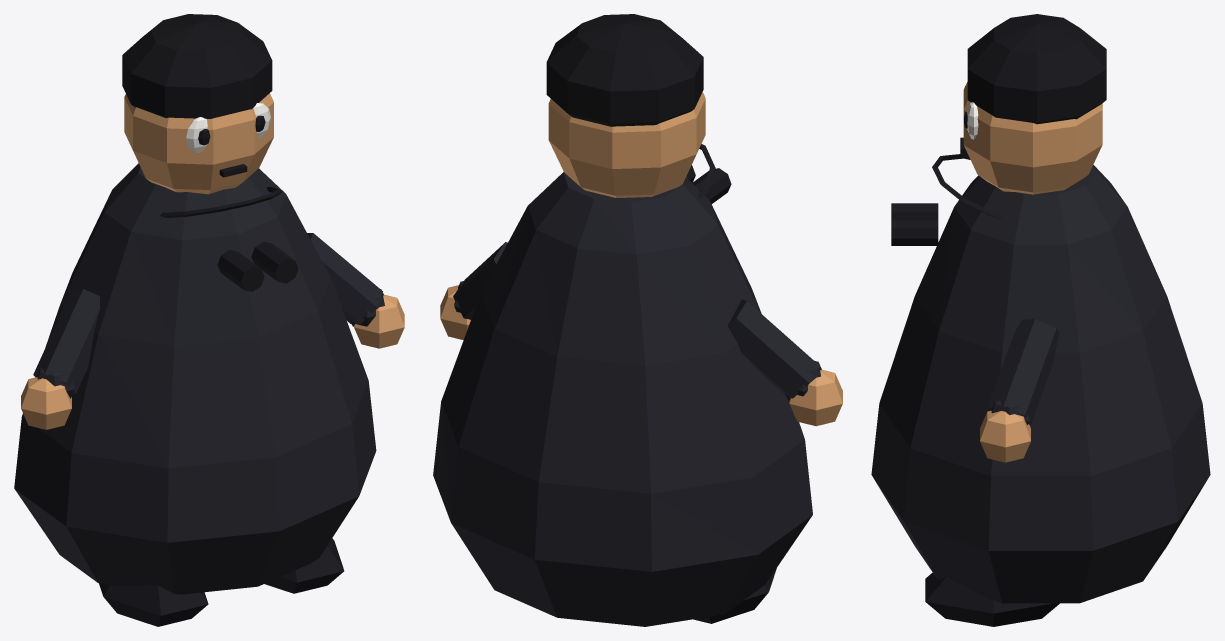
File: npc_vigia.glb
3 views of the same model, side by side, from view 1: azimuth 30°, elevation 25°; view 2: azimuth 150°, elevation 25°; view 3: azimuth 270°, elevation 25° (orthographic). The views are drawn at different scales.
Visible parts, largest first — view 1: body_coat_black, cap_thief_black, head_skin_arena, arms_coat_black, legs_black, arms_skin_arena, props_black, face_white, face_black; view 2: body_coat_black, cap_thief_black, head_skin_arena, arms_coat_black, arms_skin_arena, props_black, legs_black; view 3: body_coat_black, cap_thief_black, head_skin_arena, arms_coat_black, legs_black, props_black, arms_skin_arena.
Boxes of the visible parts, x1,y1,x2,y2 form: body_coat_black: (14,163,376,594); cap_thief_black: (122,14,272,118); head_skin_arena: (124,93,273,194); arms_coat_black: (33,233,384,398); legs_black: (99,538,344,626); arms_skin_arena: (21,294,404,429); props_black: (160,187,298,291); face_white: (186,103,270,152); face_black: (198,115,265,177); body_coat_black: (433,172,812,626); cap_thief_black: (546,14,703,126); head_skin_arena: (548,92,705,197); arms_coat_black: (453,242,821,400); arms_skin_arena: (440,285,842,426); props_black: (686,144,731,203); legs_black: (693,568,776,623); body_coat_black: (871,165,1210,603); cap_thief_black: (967,14,1106,124); head_skin_arena: (963,82,1102,194); arms_coat_black: (988,319,1059,425); legs_black: (925,572,1059,626); props_black: (891,154,1002,245); arms_skin_arena: (980,410,1030,462).
Size of the model in its own units: 1.13 by 1.57 by 0.86.
